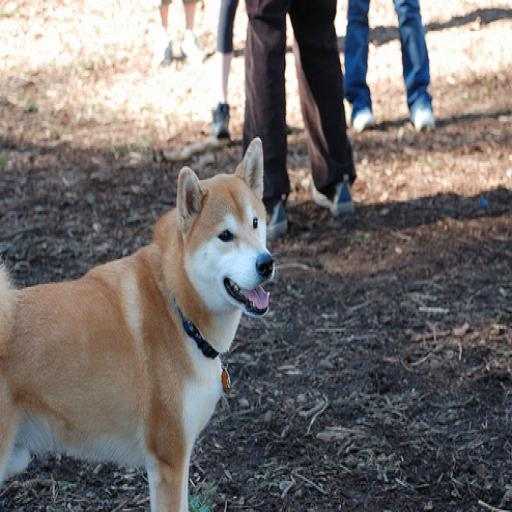dog_face: (181, 130, 275, 316)
